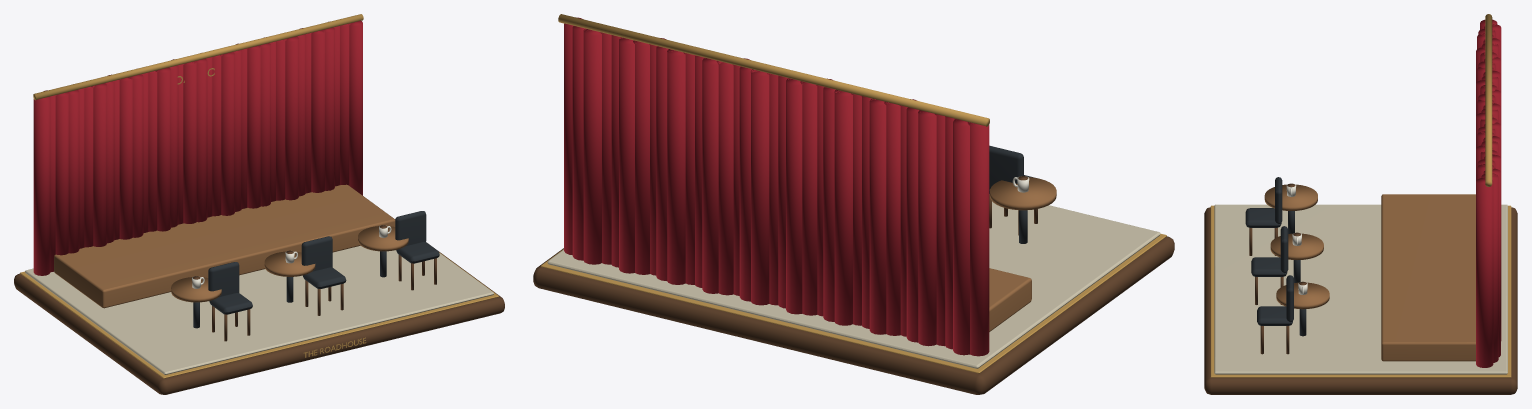
File: roadhouse.glb
3 views of the same model, side by side, from view 1: azimuth 30°, elevation 25°; view 2: azimuth 150°, elevation 25°; view 3: azimuth 270°, elevation 25° (orthographic). The views are drawn at different scales.
Visible parts, largest first — view 1: Stage floor.005, Raised stage, Walnut display plinth.005, Velvet fold.035, Curtain rail.001, Velvet fold.069, Velvet fold.048, Velvet fold.041, Velvet fold.055, Velvet fold.062, Velvet fold.058, Velvet fold.065 (+37 smaller); view 2: Stage floor.005, Walnut display plinth.005, Velvet fold.035, Velvet fold.067, Velvet fold.046, Velvet fold.053, Velvet fold.060, Velvet fold.039, Velvet fold.043, Curtain rail.001, Velvet fold.057, Velvet fold.036 (+30 smaller); view 3: Stage floor.005, Raised stage, Walnut display plinth.005, Velvet fold.069, Inset brass rim.005, Curtain rail.001, Velvet fold.068, Round table.002, Round table.001, Round table, Chair cushion.003, Chair cushion.002 (+6 smaller).
Part boxes in pixels (box(x1,y1,x2,y2)): Stage floor.005: box(25, 245, 493, 374); Raised stage: box(54, 184, 395, 308); Walnut display plinth.005: box(14, 196, 504, 394); Velvet fold.035: box(33, 96, 50, 275); Curtain rail.001: box(33, 14, 363, 100); Velvet fold.069: box(349, 20, 362, 195); Velvet fold.048: box(155, 67, 170, 231); Velvet fold.041: box(91, 83, 106, 246); Velvet fold.055: box(220, 52, 234, 215); Velvet fold.062: box(285, 36, 298, 200); Velvet fold.058: box(247, 45, 261, 208); Velvet fold.065: box(311, 30, 325, 192); Stage floor.005: box(547, 201, 1160, 368); Walnut display plinth.005: box(533, 236, 1174, 394); Velvet fold.035: box(967, 122, 989, 356); Velvet fold.067: box(583, 29, 601, 264); Velvet fold.046: box(834, 89, 852, 325); Velvet fold.053: box(751, 69, 770, 305); Velvet fold.060: box(667, 49, 685, 284); Velvet fold.039: box(918, 110, 936, 346); Velvet fold.043: box(869, 98, 889, 334); Curtain rail.001: box(558, 14, 989, 126); Velvet fold.057: box(702, 58, 722, 293); Velvet fold.036: box(953, 119, 973, 355); Stage floor.005: box(1214, 204, 1507, 374); Raised stage: box(1381, 194, 1475, 361); Walnut display plinth.005: box(1204, 207, 1517, 394); Velvet fold.069: box(1476, 177, 1493, 367); Inset brass rim.005: box(1210, 205, 1511, 377); Curtain rail.001: box(1485, 14, 1492, 186); Velvet fold.068: box(1481, 173, 1498, 362); Round table.002: box(1276, 282, 1329, 309); Round table.001: box(1270, 233, 1323, 260); Round table: box(1264, 184, 1317, 210); Chair cushion.003: box(1251, 257, 1287, 276); Chair cushion.002: box(1245, 208, 1281, 227).
Bounding box in the file's own units: 7.2 × 4.03 × 5.42.
